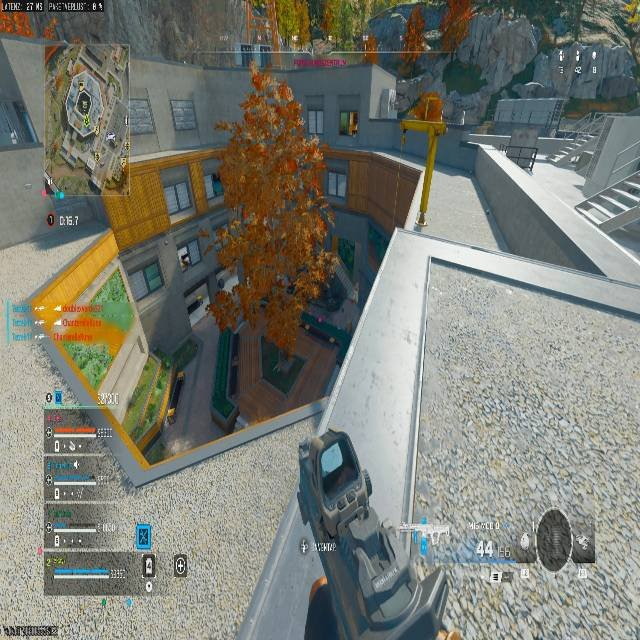player: (233, 73, 309, 223)
